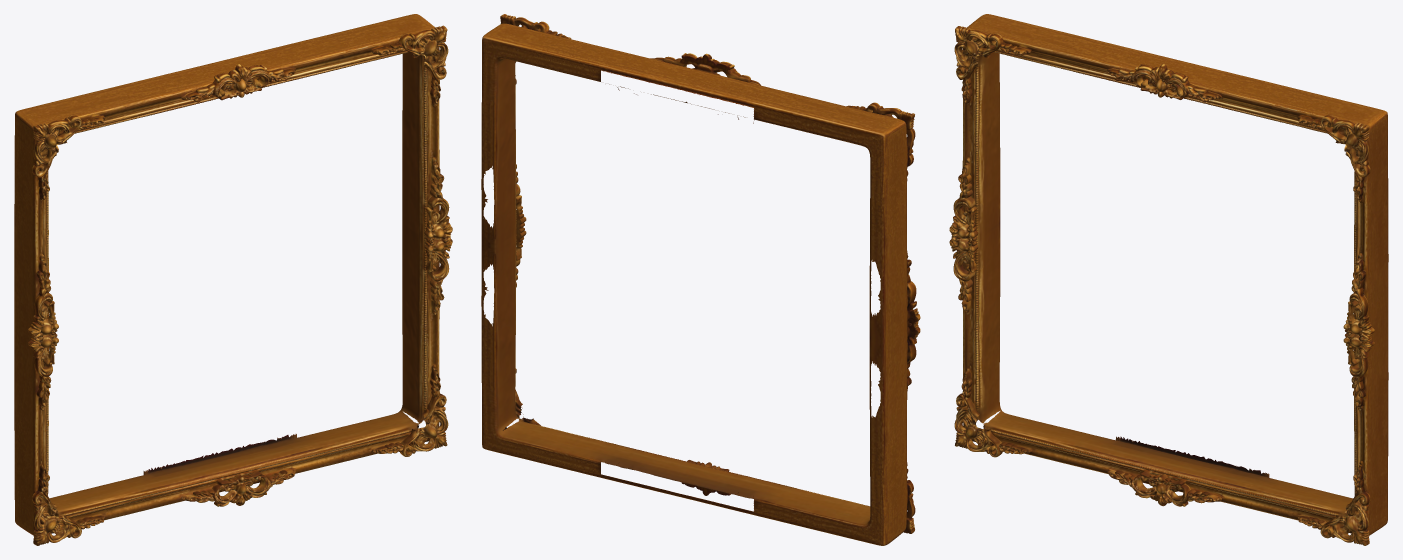
Rendered from portrait-frame.glb.
3 views of the same model, side by side, from view 1: azimuth 30°, elevation 25°; view 2: azimuth 150°, elevation 25°; view 3: azimuth 330°, elevation 25° (orthographic).
Visible parts, largest first — view 1: portrait_frame; view 2: portrait_frame; view 3: portrait_frame.
Part boxes in pixels (left/top/right/bottom): portrait_frame: left=14, top=14, right=452, bottom=545; portrait_frame: left=481, top=14, right=920, bottom=545; portrait_frame: left=949, top=14, right=1388, bottom=545.
Size of the model in its own units: 0.9797 by 0.9748 by 0.1236.
1 material, 1 textured.
